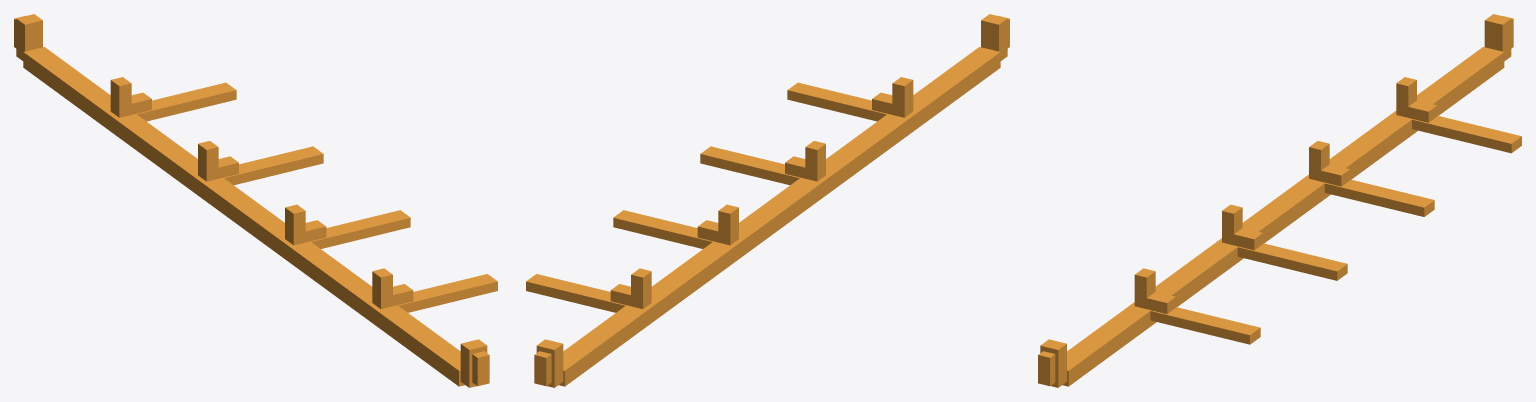
File: bin_cradle.glb
3 views of the same model, side by side, from view 1: azimuth 30°, elevation 25°; view 2: azimuth 150°, elevation 25°; view 3: azimuth 330°, elevation 25° (orthographic).
Parts seen in each view (by area): view 1: bin_cradle; view 2: bin_cradle; view 3: bin_cradle.
Part boxes in pixels (box(x1,y1,x2,y2)): bin_cradle: box(14, 14, 497, 387); bin_cradle: box(526, 14, 1009, 387); bin_cradle: box(1038, 14, 1521, 387).
Bounding box in the file's own units: 0.8 × 0.3 × 5.32.
